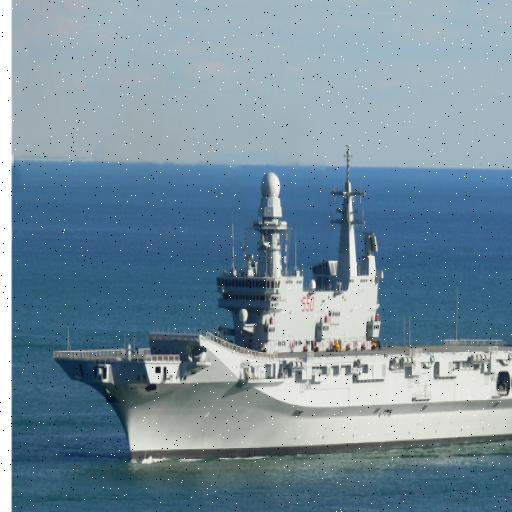Portanaves: (50, 144, 512, 467)
